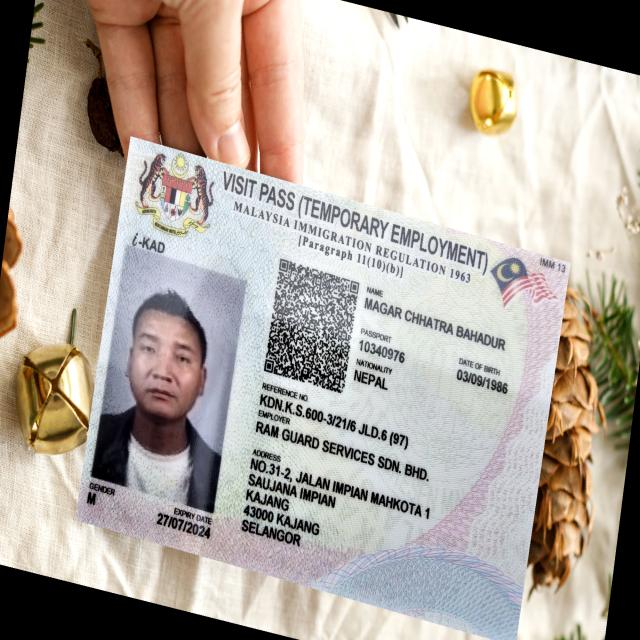ikad-temp: (74, 134, 571, 638)
